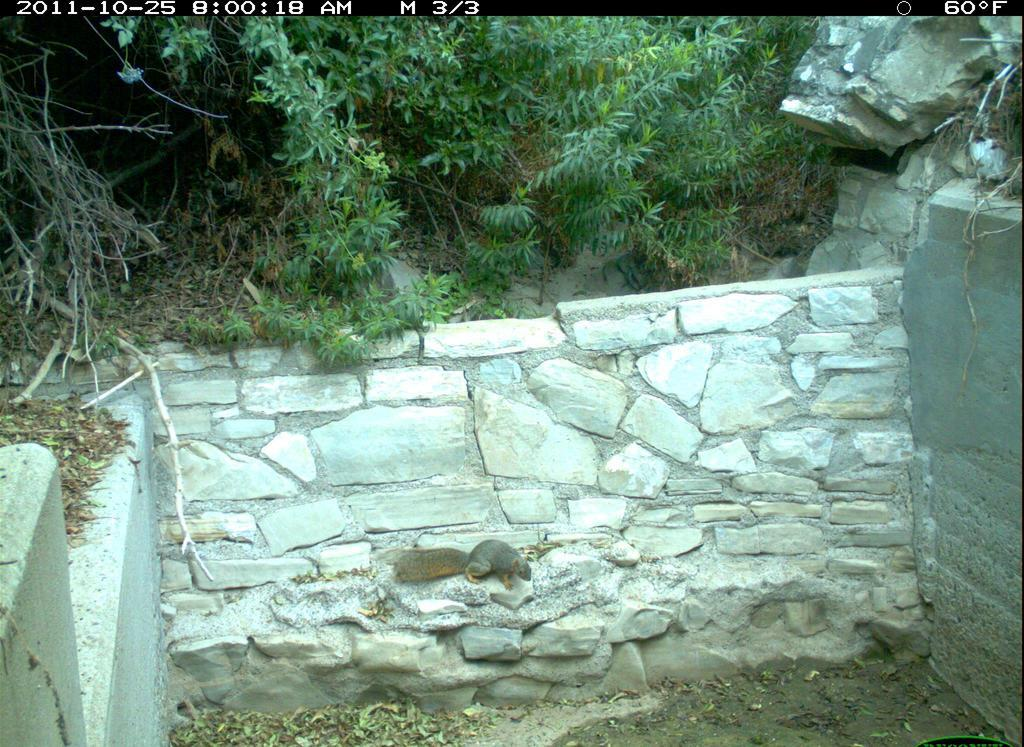squirrel: (388, 533, 541, 597)
